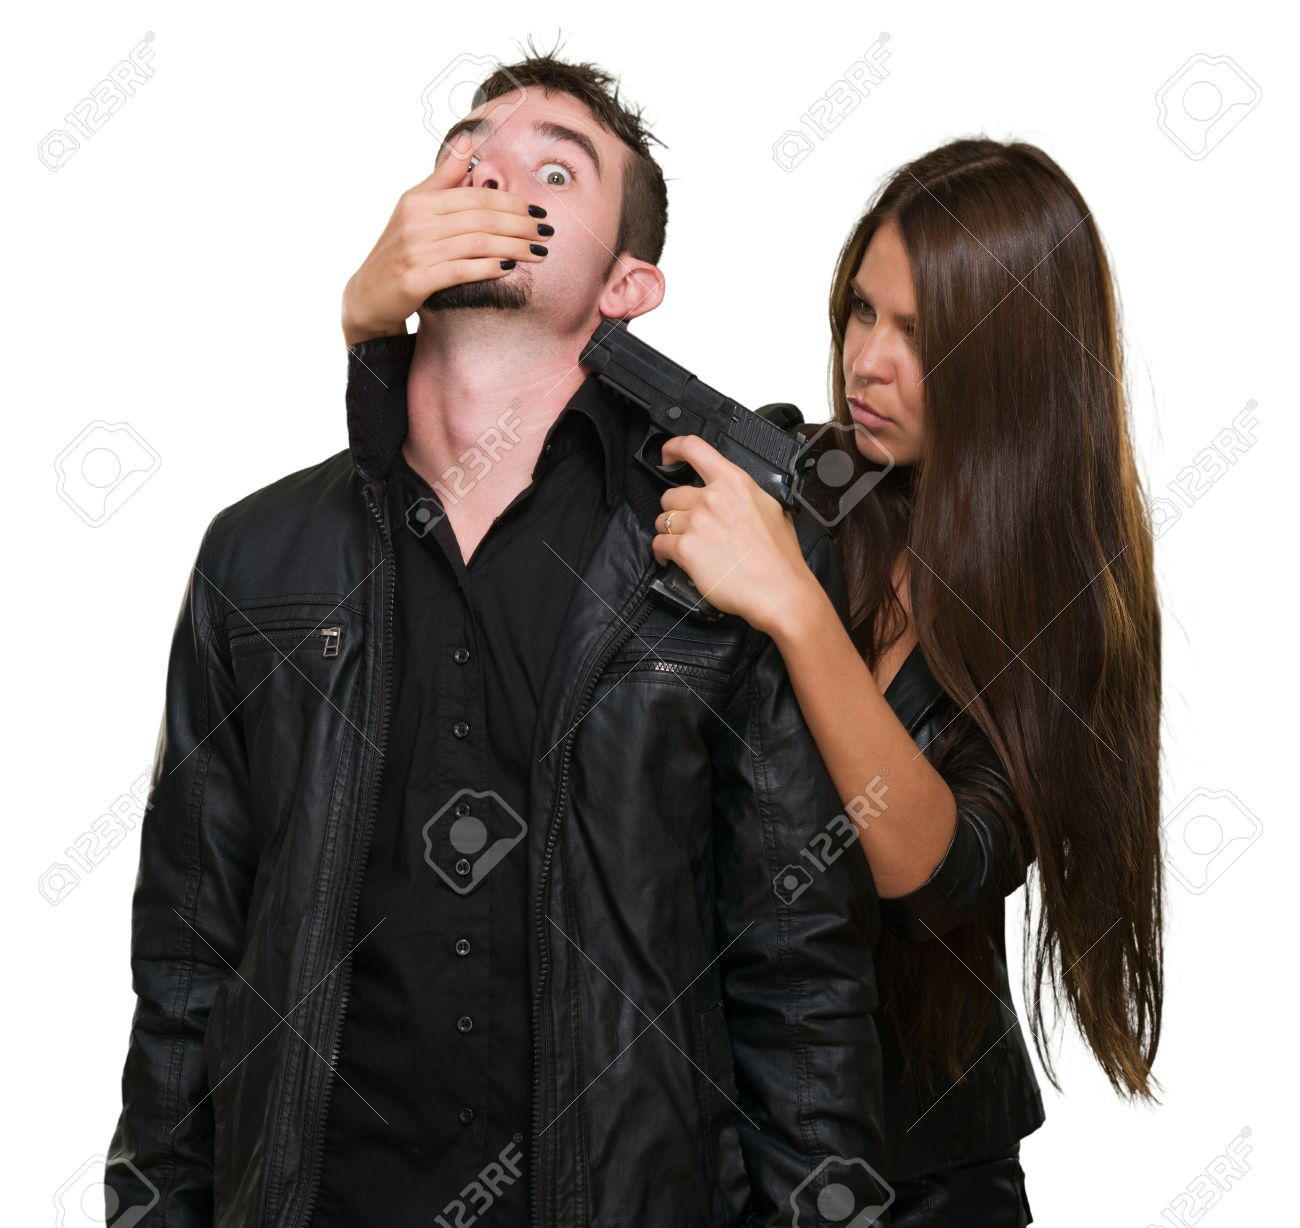pistol: (580, 316, 819, 626)
